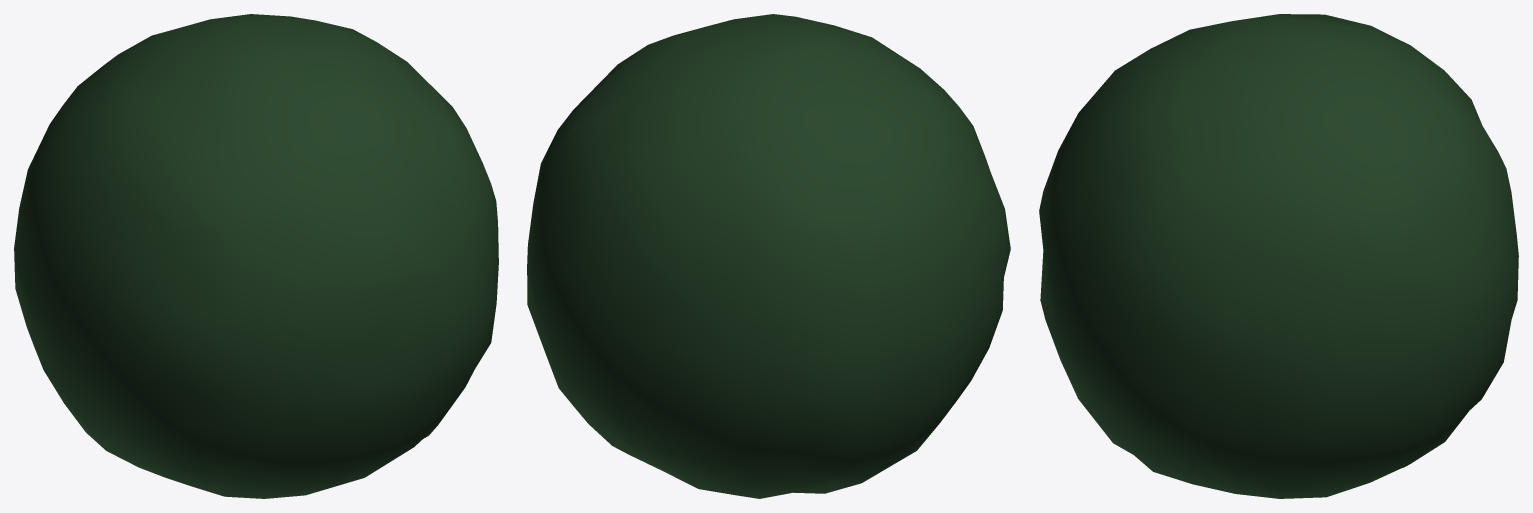
File: clay-shader.gltf
3 views of the same model, side by side, from view 1: azimuth 30°, elevation 25°; view 2: azimuth 150°, elevation 25°; view 3: azimuth 270°, elevation 25° (orthographic).
Visible parts, largest first — view 1: Cube; view 2: Cube; view 3: Cube.
Boxes of the visible parts, <box> form: Cube: <box>14,14,498,498</box>; Cube: <box>527,14,1010,498</box>; Cube: <box>1039,14,1518,498</box>.
Bounding box in the file's own units: 1.68 × 1.7 × 1.67.
